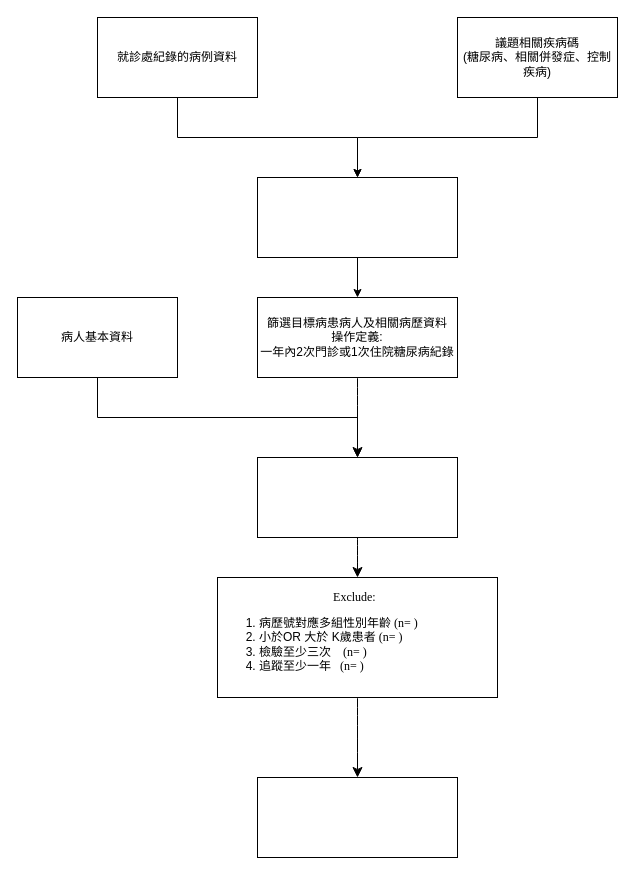
The diagram is 635 pixels wide and 875 high, and some of its shapes have lost their labels. The centre of each missing label's shape, as x and y in pixels:
"有效病人數據資料: (n = )" goes at point 357,817.
"病人數據資料: n 指資料筆數 (n = 1687788)" goes at point 357,497.
"目標疾病相關的病歷紀錄 (26種疾病、三院、(門診、住院)" goes at point 357,217.
